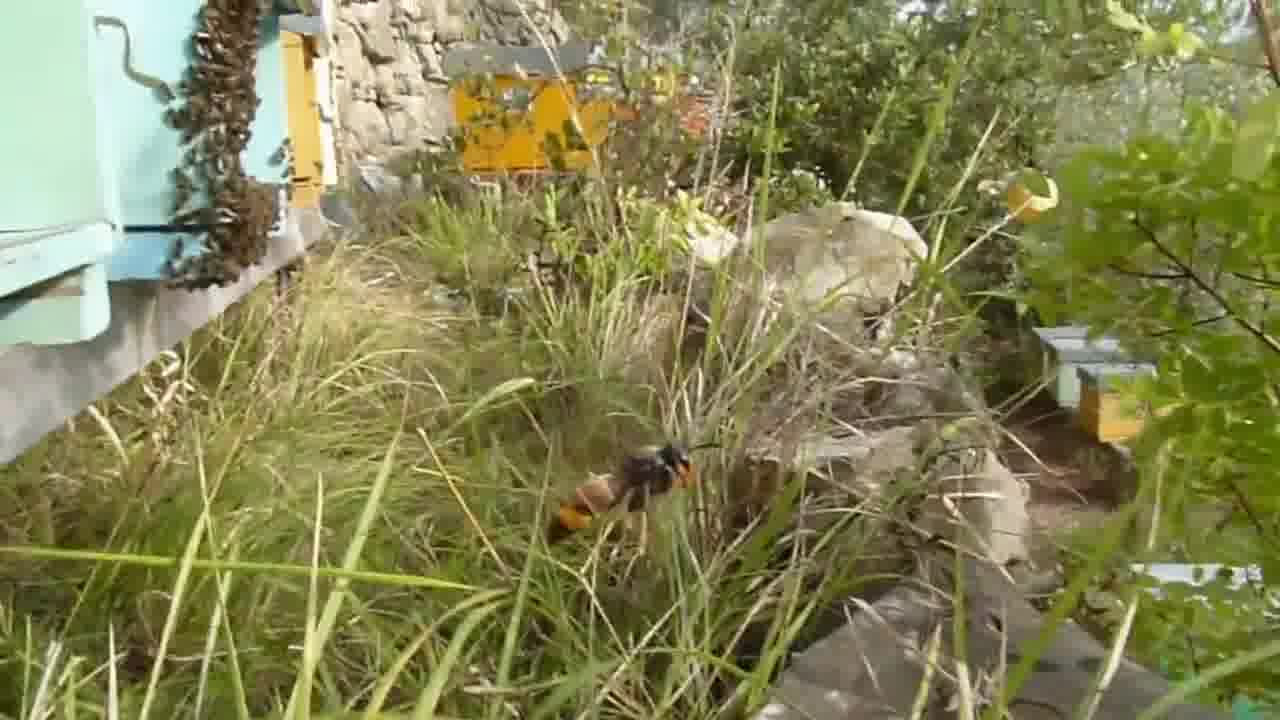bee: (179, 175, 248, 283), (168, 86, 258, 166), (185, 2, 262, 77)
hornet: (536, 429, 703, 550)
